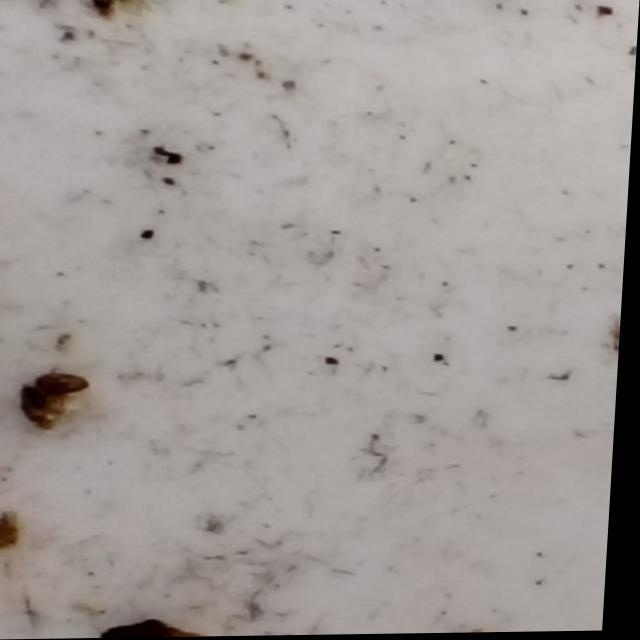varroa: (40, 373, 95, 402)
